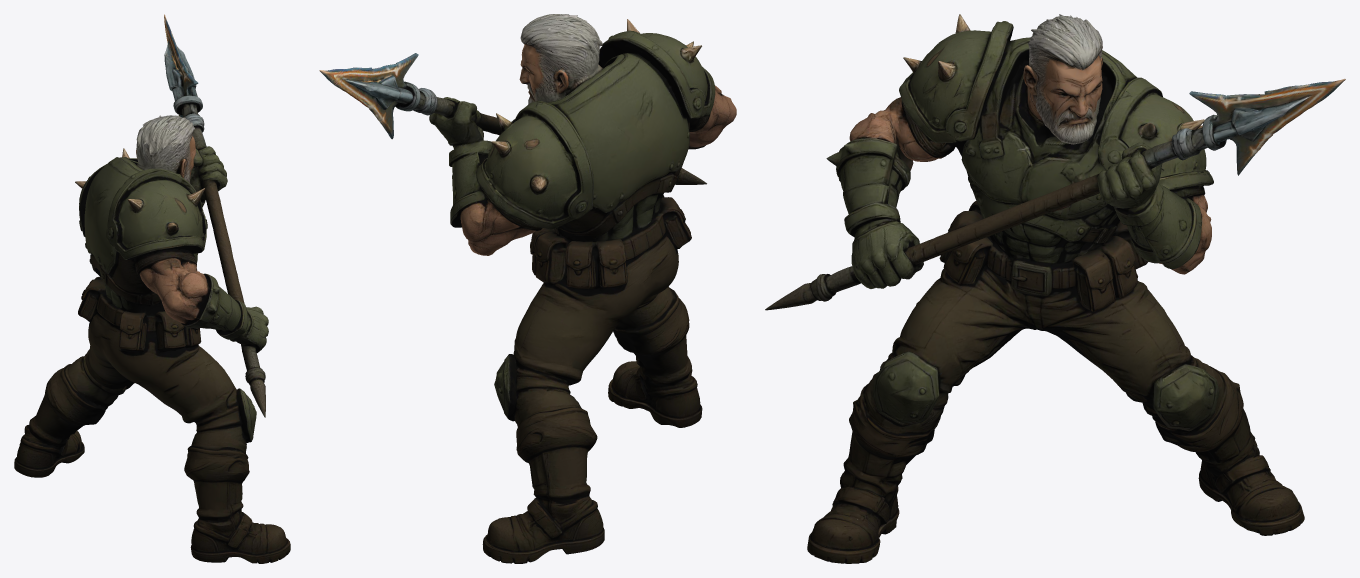
Rendered from warlance.glb.
The picture shows the model from 3 angles, left to right: view 1: azimuth 30°, elevation 25°; view 2: azimuth 150°, elevation 25°; view 3: azimuth 270°, elevation 25°; orthographic projection. The views are drawn at different scales.
Visible parts, largest first — view 1: tripo_node_772f1d2e-8d2e-411b-897c-2f257e633864; view 2: tripo_node_772f1d2e-8d2e-411b-897c-2f257e633864; view 3: tripo_node_772f1d2e-8d2e-411b-897c-2f257e633864.
Part boxes in pixels (box(x1,y1,x2,y2)): tripo_node_772f1d2e-8d2e-411b-897c-2f257e633864: box(14, 14, 290, 563); tripo_node_772f1d2e-8d2e-411b-897c-2f257e633864: box(319, 14, 736, 563); tripo_node_772f1d2e-8d2e-411b-897c-2f257e633864: box(765, 14, 1345, 563).
Bounding box in the file's own units: 0.5151 × 1 × 0.9886.
1 material, 1 textured.
